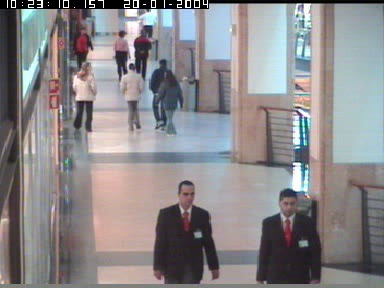person: (154, 181, 220, 285), (254, 187, 321, 284), (153, 69, 183, 137), (72, 60, 98, 131), (148, 60, 172, 130), (119, 62, 144, 129), (110, 29, 130, 79), (72, 24, 92, 69), (133, 31, 151, 76), (137, 9, 157, 37)
